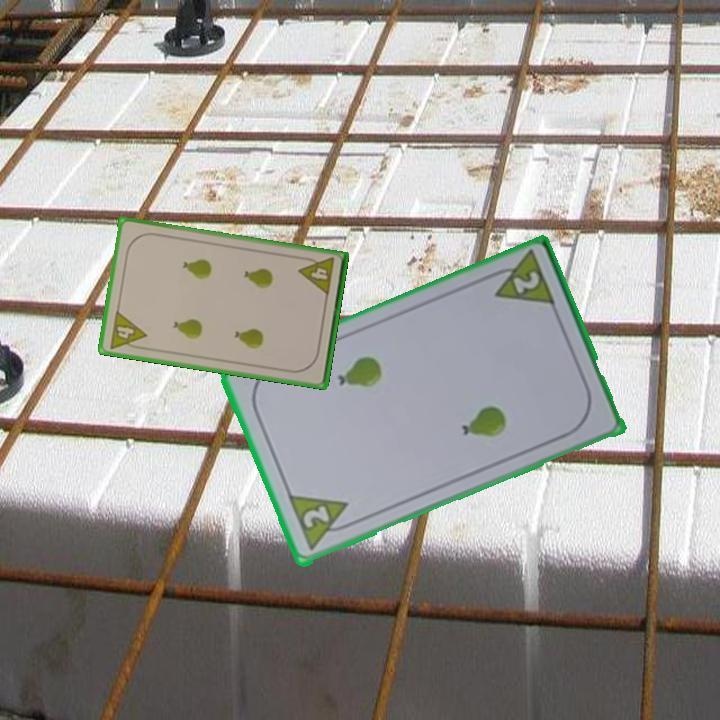2p: (284, 492, 359, 555), (483, 249, 559, 311)
4p: (106, 307, 149, 353), (296, 253, 337, 299)
